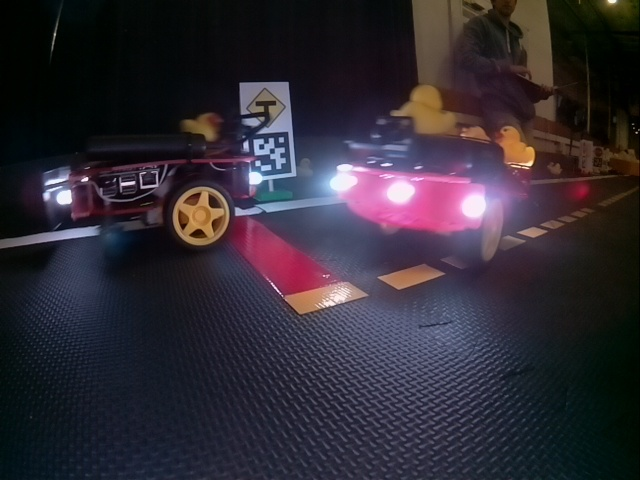Duckie: (392, 84, 456, 135), (497, 126, 535, 166), (183, 112, 222, 141)
Duckiebot: (38, 127, 264, 251), (331, 137, 533, 269)
Intersection sign: (244, 85, 290, 130)
QR code: (247, 132, 290, 177), (593, 158, 603, 167)
Stop sign: (594, 147, 604, 157)
